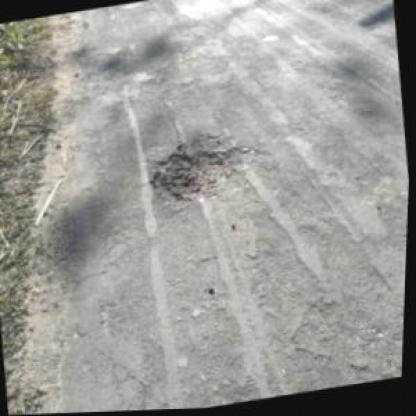pothole: (145, 128, 265, 212)
